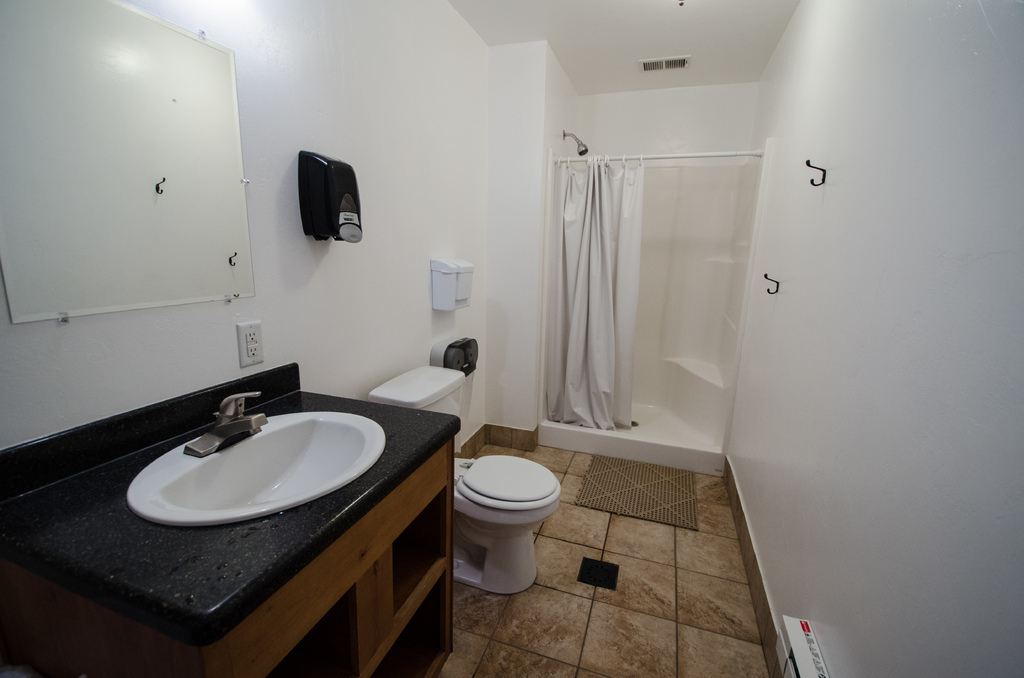tap: (183, 391, 267, 459)
